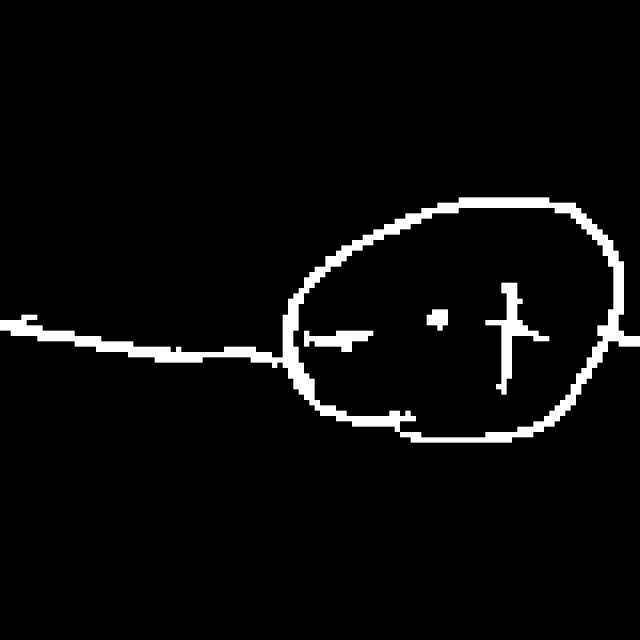voltage_source: (265, 172, 629, 474)
